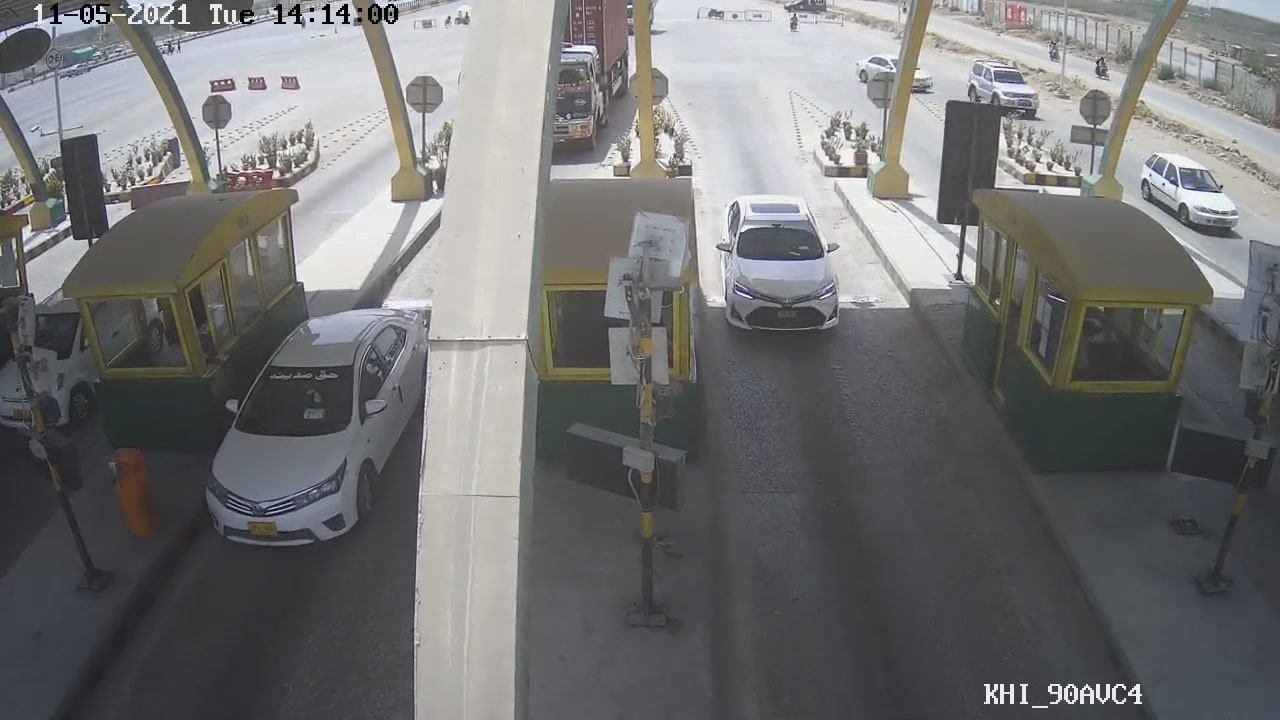F1: (715, 184, 848, 342)
